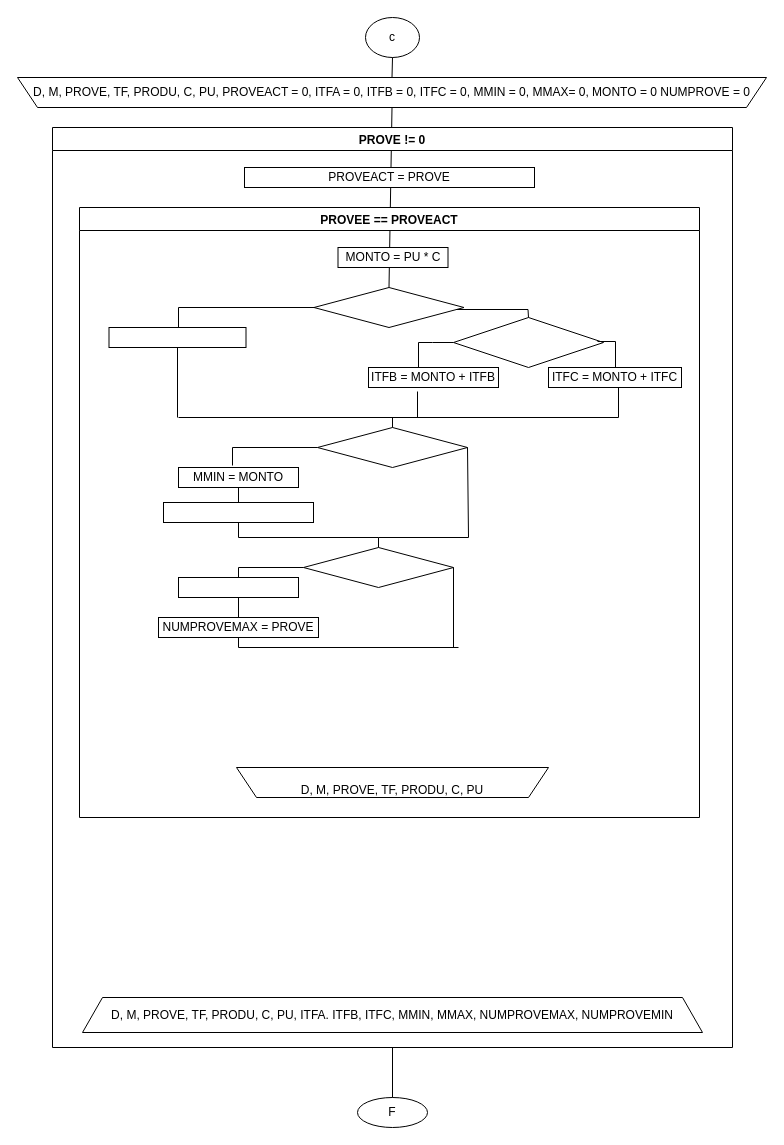
The diagram is 784 pixels wide and 1145 high, and some of its shapes have lost their labels. Here are the shapes that lost their labels. From the top down, the centre of each, then its label:
At [388,307]: "TF == A".
At [177,337]: "ITFA = MONTO + ITFA".
At [528,342]: "TF == B".
At [392,447]: "MMIN > MONTO".
At [238,512]: "NUMPROVEMIN = PROVE".
At [238,587]: "MMAX = MONTO".
At [378,567]: "MMAX < MONTO".
